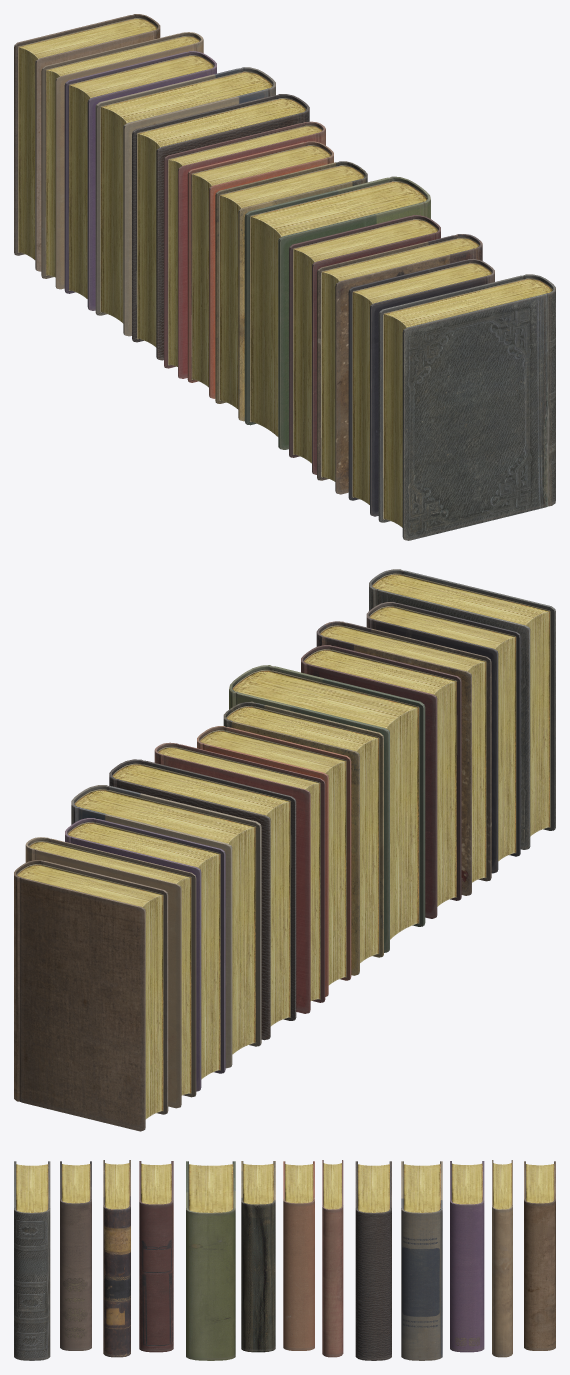
File: Book_s.fbx
The picture shows the model from 3 angles, top to bottom: view 1: azimuth 30°, elevation 25°; view 2: azimuth 150°, elevation 25°; view 3: azimuth 270°, elevation 25°; orthographic projection. The views are drawn at different scales.
Visible parts, largest first — view 1: LP_book.001, LP_book.005, LP_book.010, LP_book.009, LP_book.003, LP_book.011, LP_book.002, LP_book.006, LP_book.004, LP_book.013, LP_book.007, LP_book.012 (+1 smaller); view 2: LP_book.013, LP_book.005, LP_book.010, LP_book.001, LP_book.009, LP_book.004, LP_book.006, LP_book.003, LP_book.011, LP_book.002, LP_book.008, LP_book.012 (+1 smaller); view 3: LP_book.005, LP_book.010, LP_book.001, LP_book.009, LP_book.004, LP_book.006, LP_book.011, LP_book.007, LP_book.002, LP_book.013, LP_book.003, LP_book.008 (+1 smaller).
Boxes of the visible parts, <box> form: LP_book.001: <box>378,274,555,540</box>; LP_book.005: <box>244,176,430,449</box>; LP_book.010: <box>95,67,275,336</box>; LP_book.009: <box>132,94,309,360</box>; LP_book.003: <box>317,234,482,494</box>; LP_book.011: <box>64,51,216,310</box>; LP_book.002: <box>348,259,494,516</box>; LP_book.006: <box>215,161,367,421</box>; LP_book.004: <box>289,215,440,474</box>; LP_book.013: <box>14,14,160,271</box>; LP_book.007: <box>187,141,333,398</box>; LP_book.012: <box>41,32,203,289</box>; LP_book.013: <box>14,860,168,1131</box>; LP_book.005: <box>229,665,425,952</box>; LP_book.010: <box>71,785,261,1068</box>; LP_book.001: <box>369,569,555,849</box>; LP_book.009: <box>109,759,296,1040</box>; LP_book.004: <box>301,645,461,918</box>; LP_book.006: <box>223,701,383,975</box>; LP_book.003: <box>316,621,491,895</box>; LP_book.011: <box>65,818,225,1091</box>; LP_book.002: <box>366,602,520,873</box>; LP_book.008: <box>154,742,325,1013</box>; LP_book.012: <box>25,837,196,1108</box>; LP_book.005: <box>186,1161,235,1360</box>; LP_book.010: <box>401,1161,442,1360</box>; LP_book.001: <box>14,1161,50,1360</box>; LP_book.009: <box>355,1161,391,1360</box>; LP_book.004: <box>139,1161,173,1352</box>; LP_book.006: <box>241,1161,275,1352</box>; LP_book.011: <box>450,1161,484,1352</box>; LP_book.007: <box>283,1161,314,1350</box>; LP_book.002: <box>60,1161,91,1350</box>; LP_book.013: <box>524,1161,555,1350</box>; LP_book.003: <box>103,1160,130,1357</box>; LP_book.008: <box>322,1160,343,1357</box>.
Size of the model in its own units: 461 by 579 by 1929.
